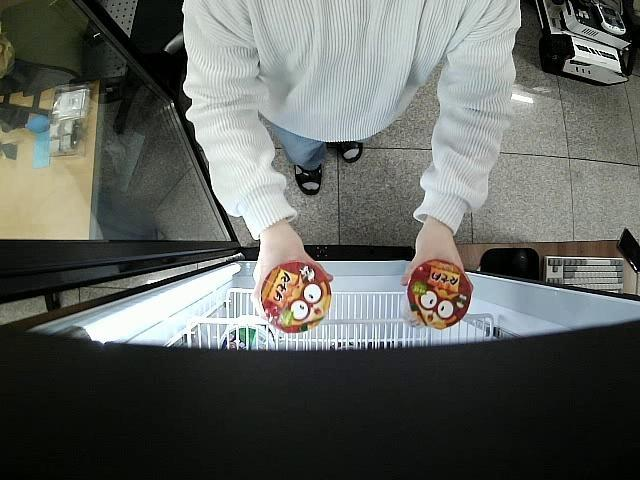06_nuguri_S: (398, 258, 472, 328), (260, 260, 330, 334)
